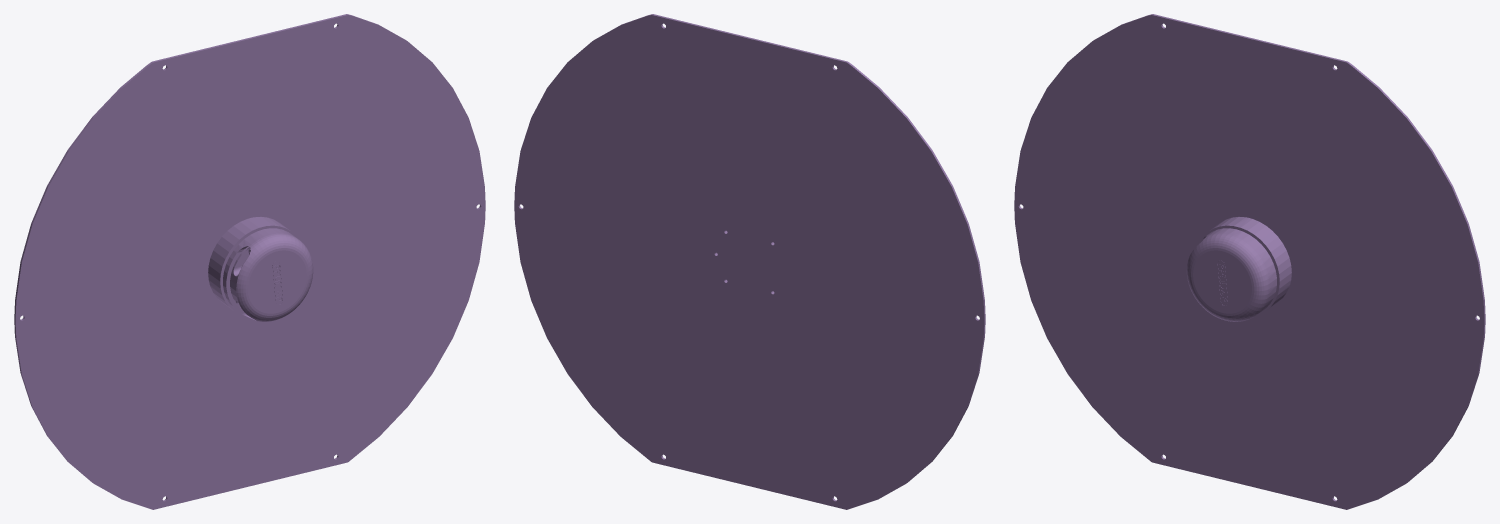
Rendered from laser_link.glb.
3 renders of one model, left to right at view 1: azimuth 30°, elevation 25°; view 2: azimuth 150°, elevation 25°; view 3: azimuth 330°, elevation 25°, orthographic.
Bounding box in the file's own units: 0.4184 × 0.3807 × 0.0433.
